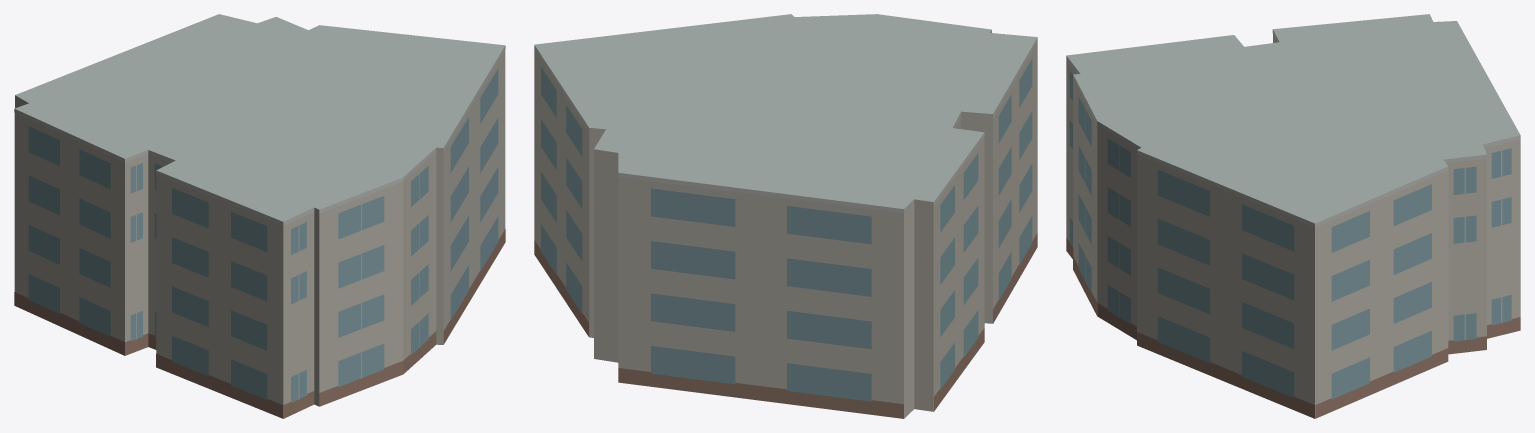
File: survey-upis-32954028.glb
3 views of the same model, side by side, from view 1: azimuth 30°, elevation 25°; view 2: azimuth 150°, elevation 25°; view 3: azimuth 270°, elevation 25° (orthographic). The views are drawn at different scales.
Visible parts, largest first — view 1: survey-upis-32954028.tmp; view 2: survey-upis-32954028.tmp; view 3: survey-upis-32954028.tmp.
Boxes of the visible parts, x1,y1,x2,y2 form: survey-upis-32954028.tmp: (14, 14, 505, 418); survey-upis-32954028.tmp: (534, 14, 1037, 418); survey-upis-32954028.tmp: (1066, 14, 1520, 418).
Bounding box in the file's own units: 26.83 × 11.66 × 24.58.
